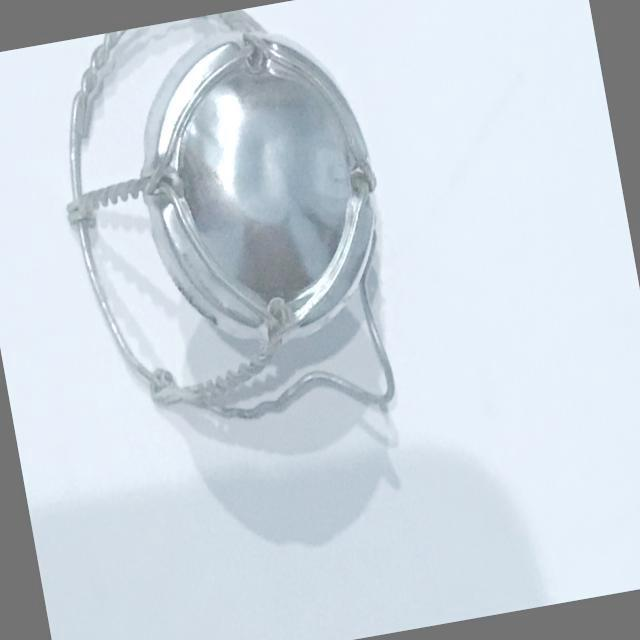metal: (0, 0, 441, 497)
